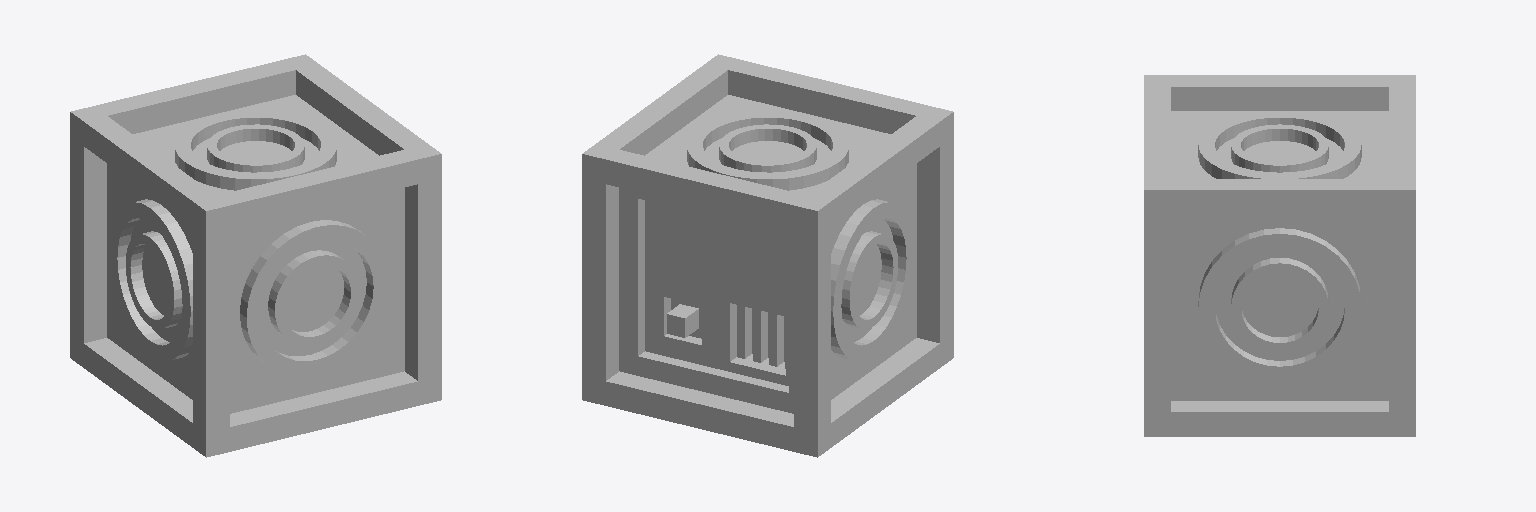
Rendered from CollisionDetector.obj.
3 renders of one model, left to right at view 1: azimuth 30°, elevation 25°; view 2: azimuth 150°, elevation 25°; view 3: azimuth 270°, elevation 25°, orthographic.
Visible parts, largest first — view 1: Cylinder.004; view 2: Cylinder.004; view 3: Cylinder.004.
Boxes of the visible parts, <box> form: Cylinder.004: <box>70,54,441,457</box>; Cylinder.004: <box>582,54,953,457</box>; Cylinder.004: <box>1144,75,1415,436</box>.
Bounding box in the file's own units: 1 × 1 × 1.